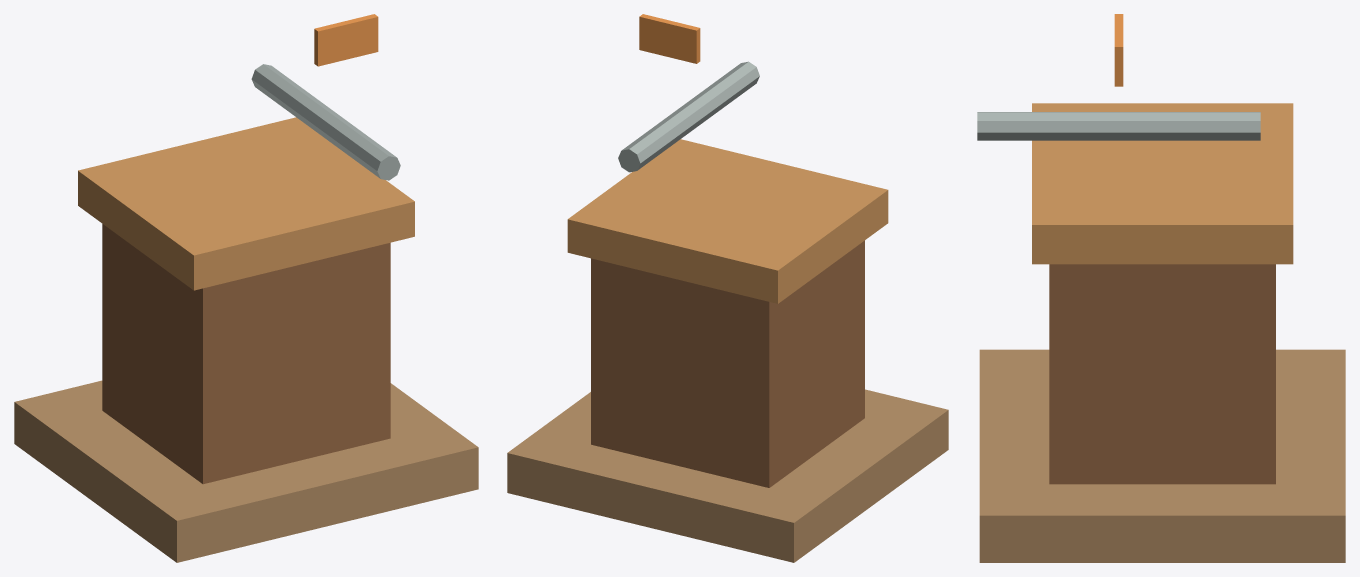
File: outpost.glb
The picture shows the model from 3 angles, left to right: view 1: azimuth 30°, elevation 25°; view 2: azimuth 150°, elevation 25°; view 3: azimuth 270°, elevation 25°; orthographic projection. The views are drawn at different scales.
Parts seen in each view (by area): view 1: hut, foundation, roof, mast, flag; view 2: hut, foundation, roof, mast, flag; view 3: hut, foundation, roof, mast, flag.
Part boxes in pixels (x1=…): hut: x1=102, y1=224, x2=390, y2=484; foundation: x1=14, y1=380, x2=478, y2=562; roof: x1=78, y1=117, x2=414, y2=290; mast: x1=251, y1=64, x2=400, y2=180; flag: x1=314, y1=14, x2=378, y2=66; hut: x1=591, y1=240, x2=864, y2=487; foundation: x1=507, y1=389, x2=948, y2=562; roof: x1=567, y1=139, x2=888, y2=303; mast: x1=618, y1=61, x2=759, y2=172; flag: x1=639, y1=14, x2=700, y2=63; hut: x1=1049, y1=264, x2=1275, y2=484; foundation: x1=979, y1=349, x2=1345, y2=562; roof: x1=1032, y1=103, x2=1293, y2=264; mast: x1=977, y1=112, x2=1260, y2=140; flag: x1=1114, y1=14, x2=1123, y2=86.
Size of the model in its own units: 0.9 by 1.25 by 0.845.
